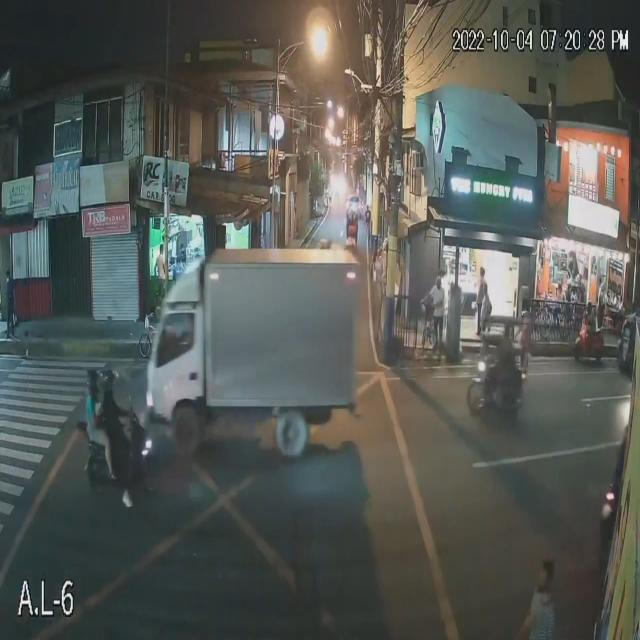Full-Faced: (80, 362, 102, 397), (98, 365, 119, 394)
